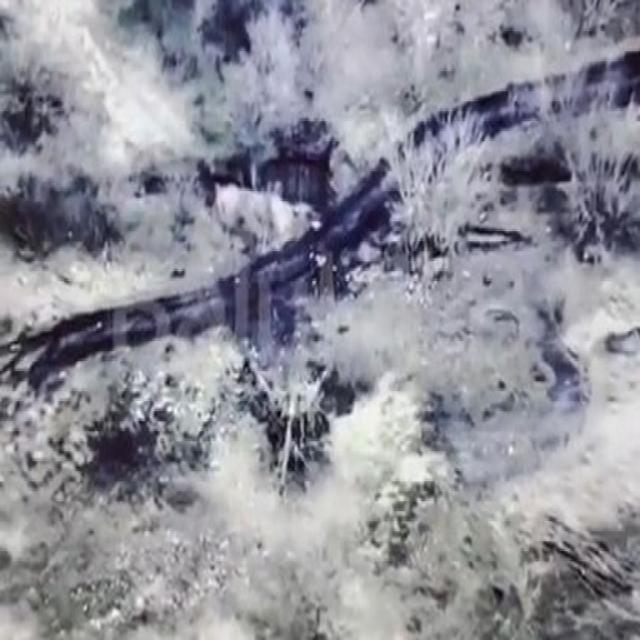ART: (248, 349, 330, 498)
